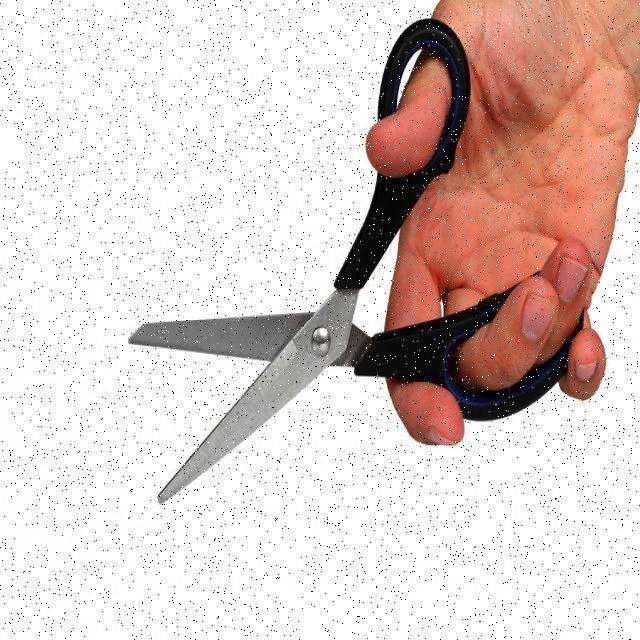scissors: (126, 15, 588, 508)
